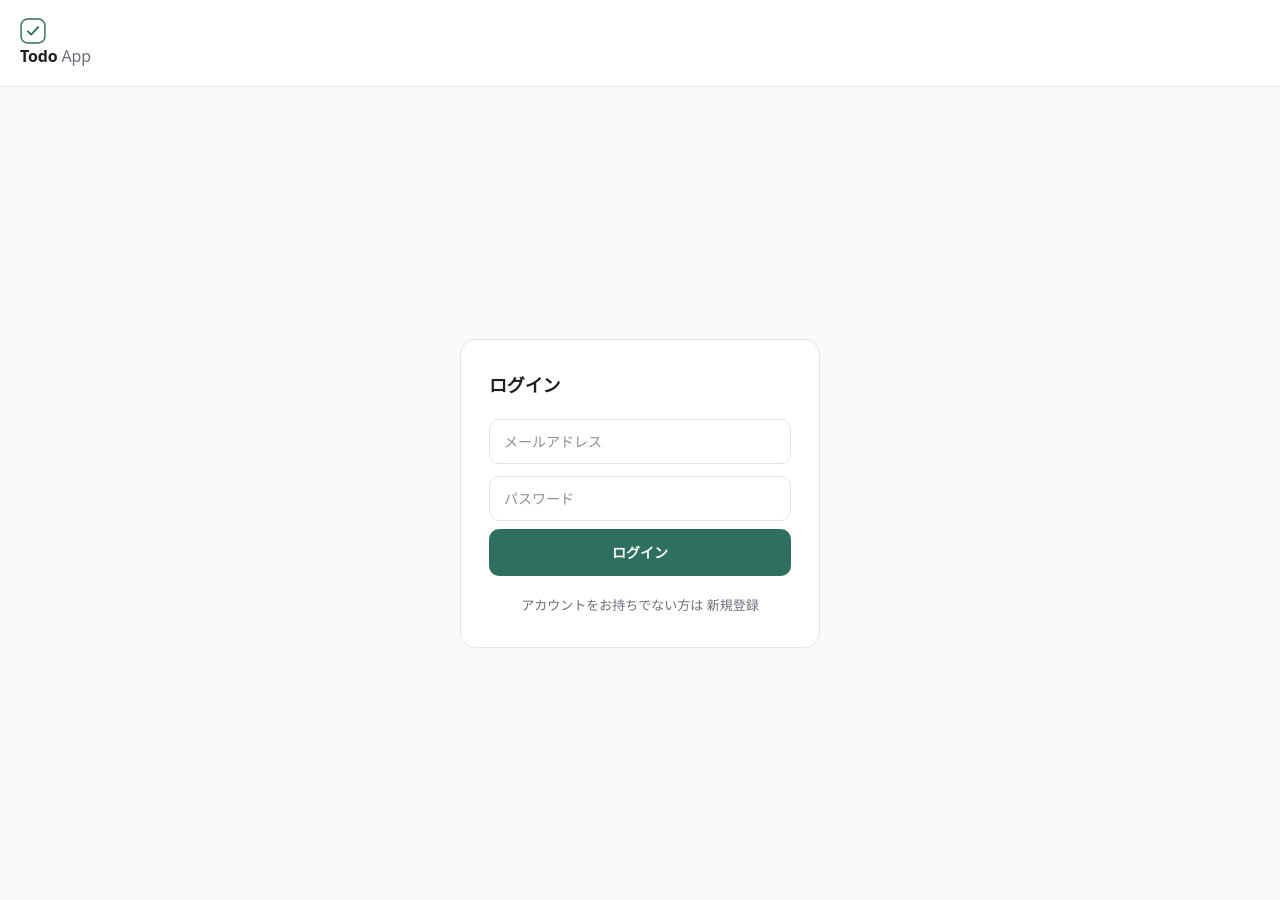
Test case: LoginForm › login mode › パスワードが空で送信すると "パスワードを入力してください!" が表示される
Step 1. Type "test@example.com" into the field with placeholder "メールアドレス" → (640, 441), box x1=489 y1=419 x2=791 y2=464
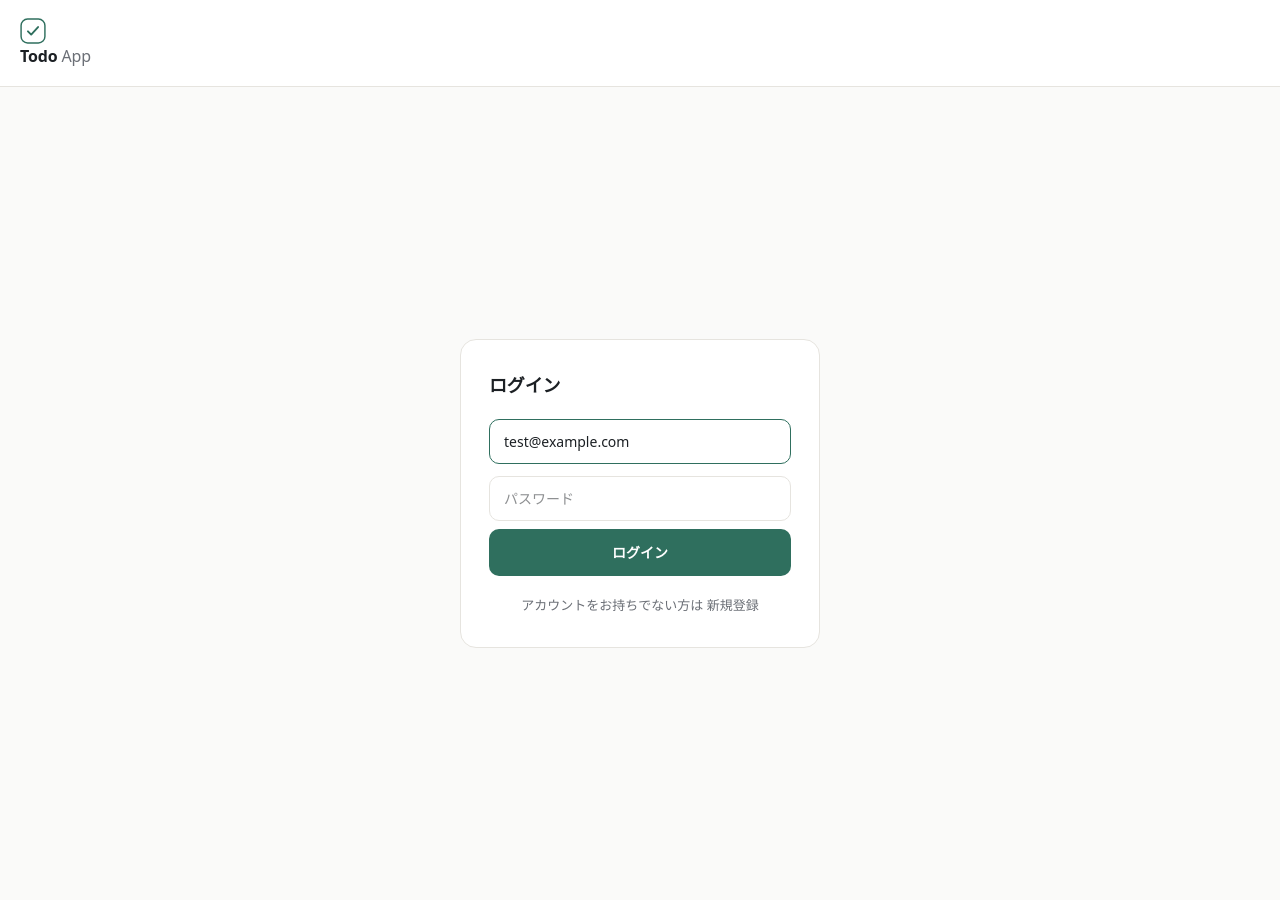
Step 2. Click the button "ログイン" → (640, 552), box x1=489 y1=529 x2=791 y2=576
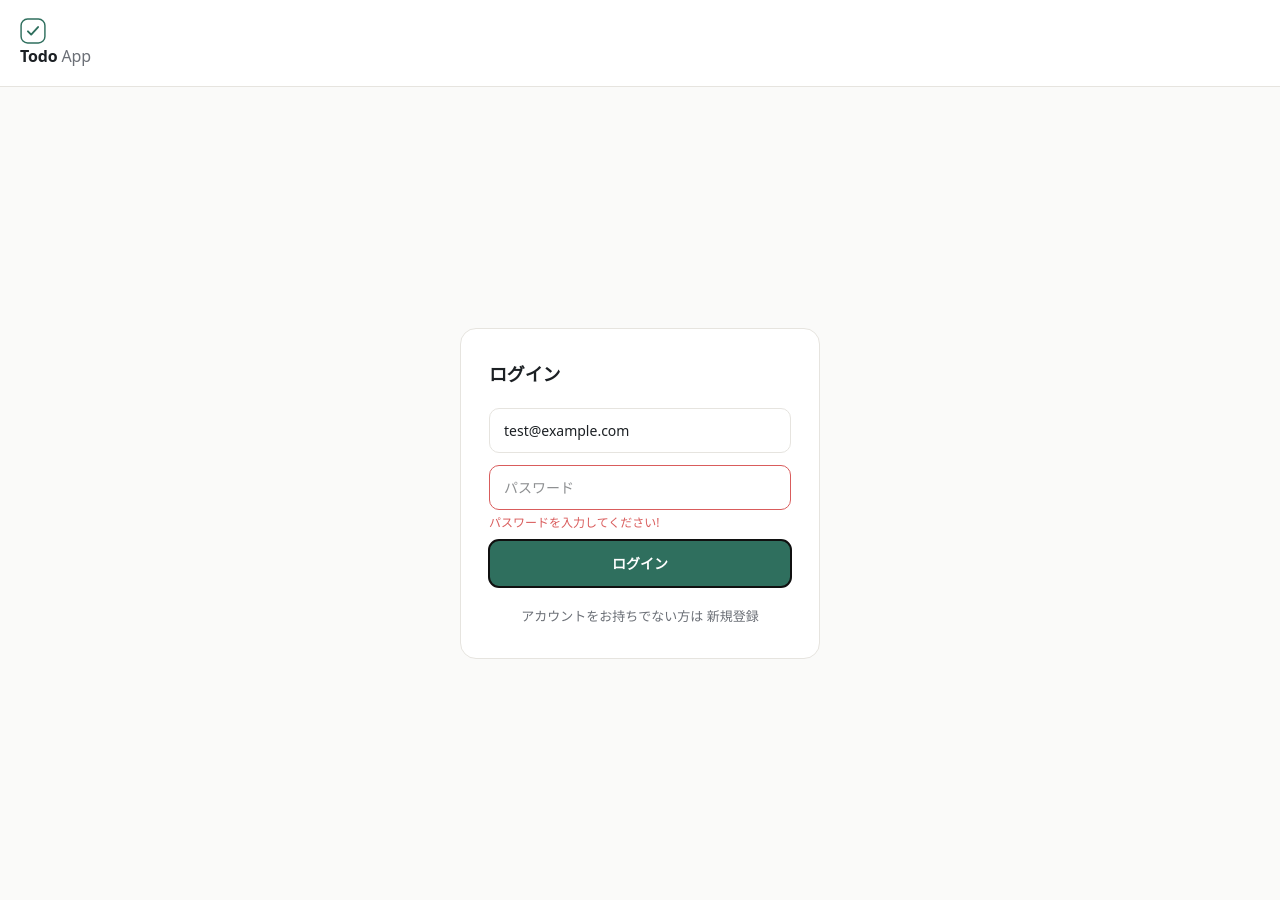
Expected: the text "パスワードを入力してください!" is shown, x1=489 y1=514 x2=660 y2=531
